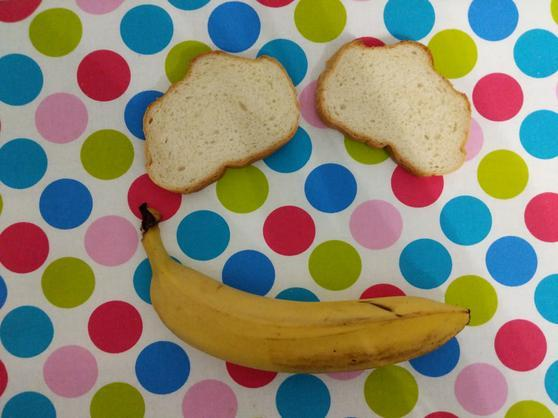banana: (107, 205, 496, 375)
white_bread: (130, 38, 307, 211), (315, 29, 481, 193)
